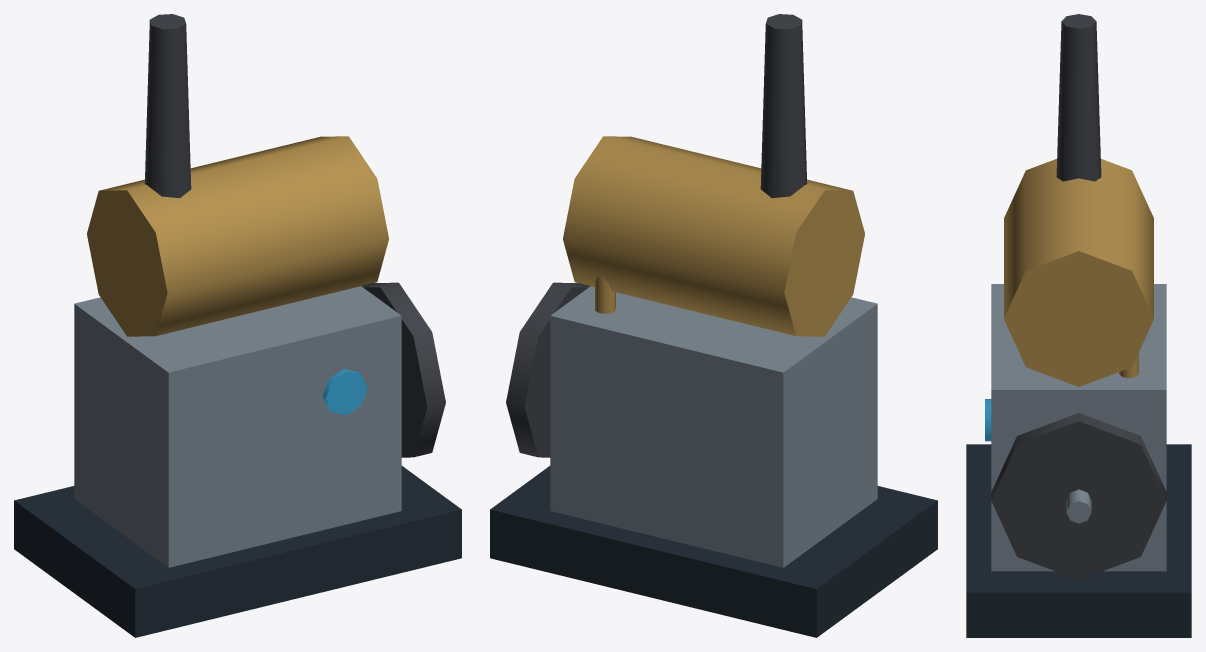
File: steam-machine-lod1.glb
3 views of the same model, side by side, from view 1: azimuth 30°, elevation 25°; view 2: azimuth 150°, elevation 25°; view 3: azimuth 270°, elevation 25° (orthographic). The views are drawn at different scales.
Visible parts, largest first — view 1: body, boiler, base, chimney, flywheel, gauge; view 2: body, boiler, base, chimney, flywheel, pipe; view 3: boiler, base, flywheel, body, chimney, axle.
Part boxes in pixels (x1,y1,x2,y2): body: (74,286,401,567); boiler: (87,136,388,336); base: (14,466,461,637); chimney: (144,14,191,198); flywheel: (361,282,445,457); gauge: (322,369,367,415); body: (550,286,877,567); boiler: (563,136,864,336); base: (490,466,937,637); chimney: (760,14,807,198); flywheel: (506,282,590,457); pipe: (595,276,615,313); boiler: (1004,159,1153,386); base: (966,444,1191,637); flywheel: (991,413,1166,579); body: (991,284,1166,571); chimney: (1056,14,1101,181); axle: (1066,489,1091,523).
Size of the model in its own units: 1.5 by 2.25 by 0.9.
